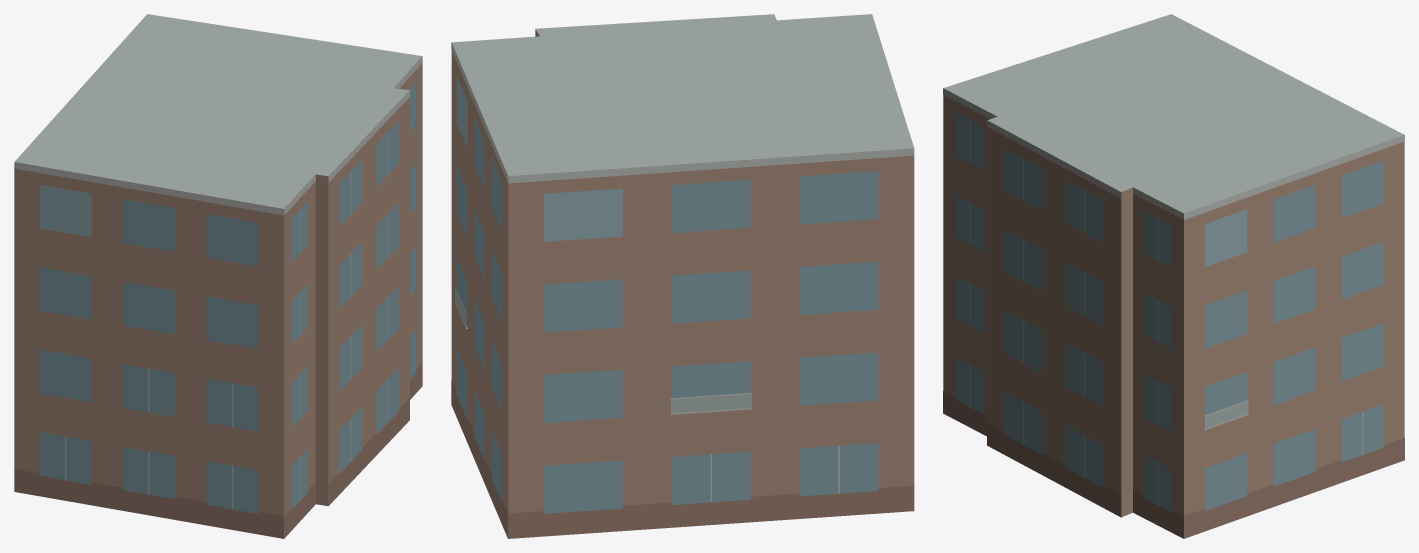
File: survey-upis-32814704.glb
The picture shows the model from 3 angles, left to right: view 1: azimuth 30°, elevation 25°; view 2: azimuth 150°, elevation 25°; view 3: azimuth 270°, elevation 25°; orthographic projection. The views are drawn at different scales.
Visible parts, largest first — view 1: survey-upis-32814704.tmp; view 2: survey-upis-32814704.tmp; view 3: survey-upis-32814704.tmp.
Boxes of the visible parts, x1=… form: survey-upis-32814704.tmp: x1=14, y1=14, x2=422, y2=538; survey-upis-32814704.tmp: x1=451, y1=14, x2=914, y2=538; survey-upis-32814704.tmp: x1=943, y1=14, x2=1404, y2=538.
Bounding box in the file's own units: 16.05 × 12.2 × 15.69.
